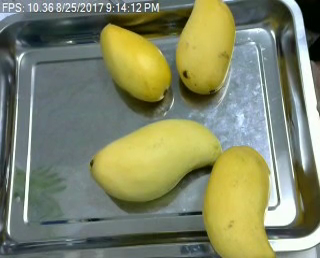Mango: (84, 117, 225, 204), (200, 141, 278, 257), (170, 0, 238, 98), (95, 20, 174, 102)
